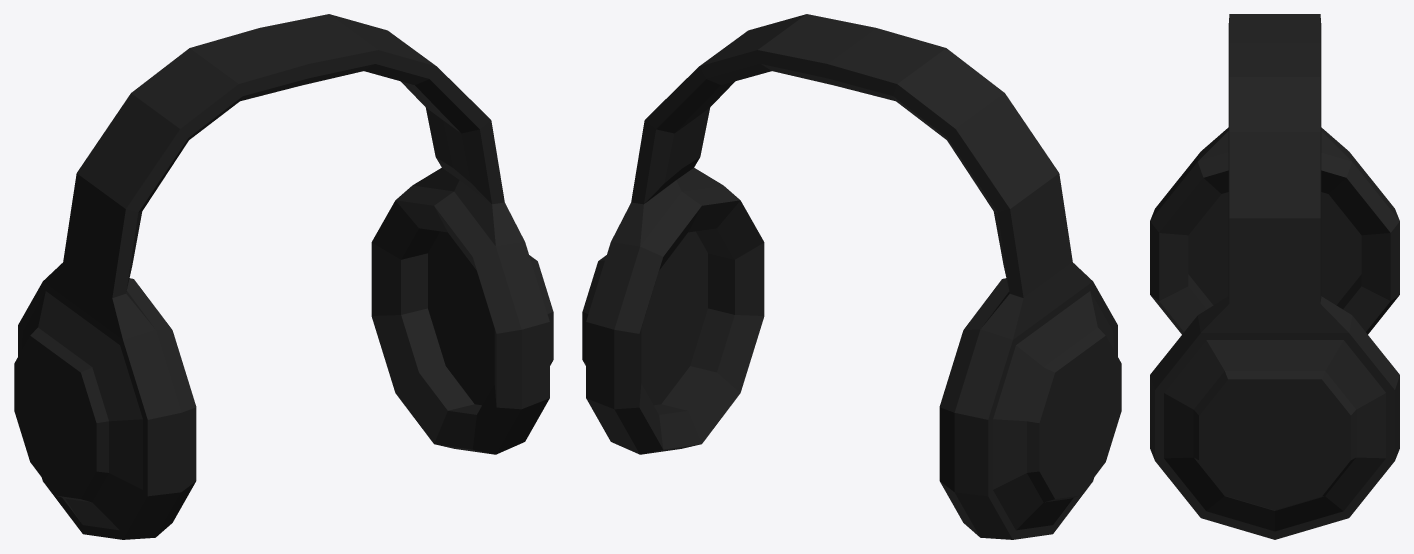
File: HeadphonesV1Black.fbx
The picture shows the model from 3 angles, left to right: view 1: azimuth 30°, elevation 25°; view 2: azimuth 150°, elevation 25°; view 3: azimuth 270°, elevation 25°; orthographic projection. The views are drawn at different scales.
Parts seen in each view (by area): view 1: HeadphonesV1Black; view 2: HeadphonesV1Black; view 3: HeadphonesV1Black.
Boxes of the visible parts, x1=… form: HeadphonesV1Black: x1=14, y1=14, x2=553, y2=539; HeadphonesV1Black: x1=582, y1=14, x2=1121, y2=539; HeadphonesV1Black: x1=1150, y1=14, x2=1399, y2=539.
Size of the model in its own units: 28.09 by 26.1 by 14.38.
